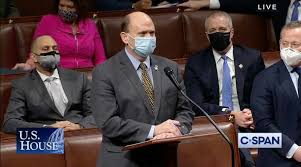mask: (37, 52, 61, 71), (134, 37, 156, 56), (208, 32, 231, 50), (280, 47, 301, 66), (57, 8, 78, 23)
